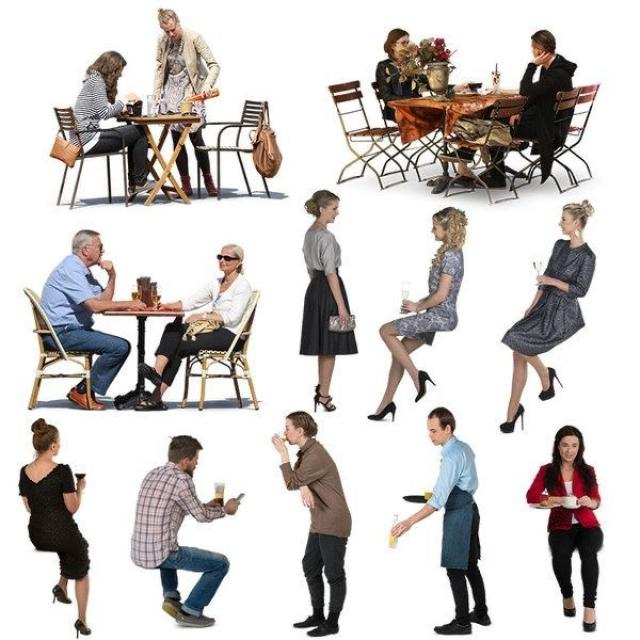obstacle: (387, 89, 526, 198), (22, 286, 104, 409), (180, 289, 262, 410), (99, 306, 188, 410), (116, 112, 202, 206), (194, 99, 271, 200)
person: (389, 406, 491, 635), (499, 198, 596, 433), (438, 29, 577, 188), (367, 206, 468, 421), (130, 434, 242, 627), (132, 243, 251, 411), (39, 228, 148, 410), (271, 410, 352, 636), (17, 417, 92, 637), (525, 424, 604, 632), (374, 27, 477, 186), (151, 8, 220, 196), (299, 189, 357, 412), (70, 50, 156, 200)
